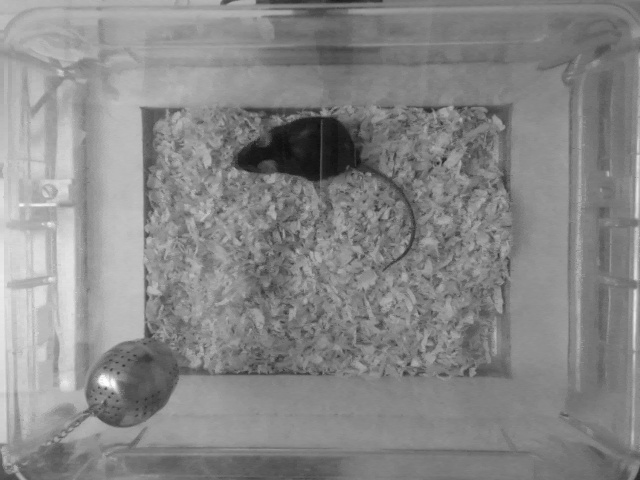mice: (226, 115, 421, 270)
